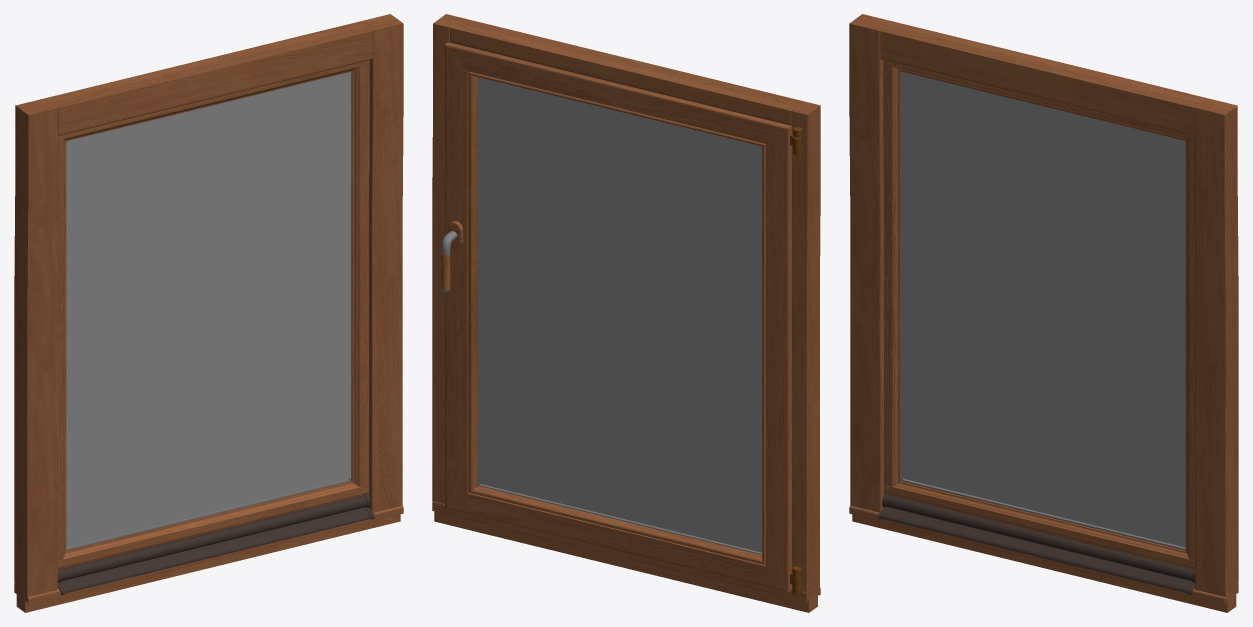
The model's file is Window.FBX.
3 renders of one model, left to right at view 1: azimuth 30°, elevation 25°; view 2: azimuth 150°, elevation 25°; view 3: azimuth 330°, elevation 25°, orthographic.
Parts seen in each view (by area): view 1: Window, WindowFrame; view 2: Window, WindowFrame, Handle; view 3: Window, WindowFrame.
Boxes of the visible parts, box(x1,y1,x2,y2) form: Window: box(57, 60, 369, 569); WindowFrame: box(14, 14, 403, 612); Window: box(445, 42, 801, 592); WindowFrame: box(432, 14, 820, 612); Handle: box(441, 231, 457, 292); Window: box(883, 60, 1195, 569); WindowFrame: box(849, 14, 1238, 612).
Bounding box in the file's own units: 0.9305 × 1.18 × 0.1369.
